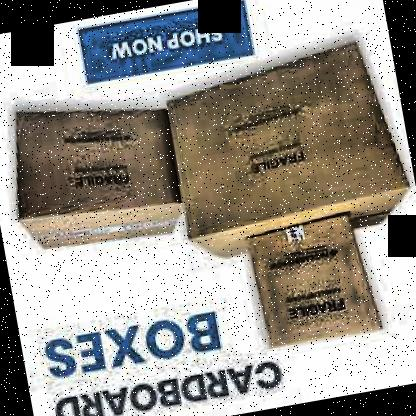no defect parcel: (147, 30, 416, 260), (0, 79, 189, 263), (235, 209, 391, 366)
